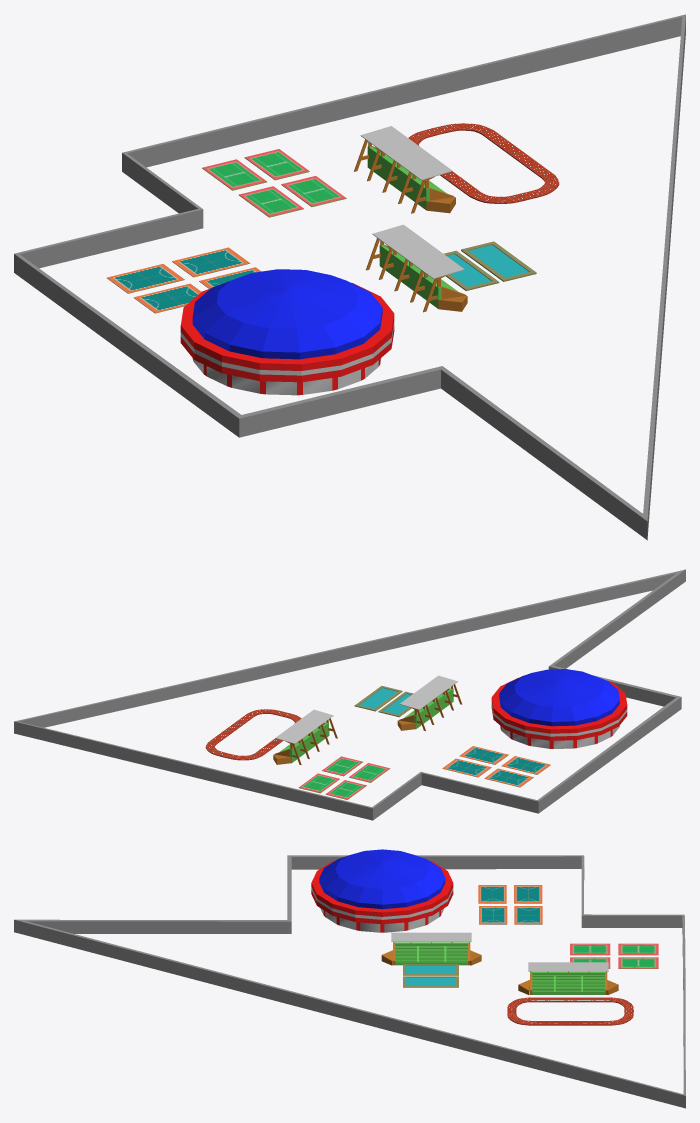
Rendered from VilaOlimpica.FBX.
The picture shows the model from 3 angles, top to bottom: view 1: azimuth 30°, elevation 25°; view 2: azimuth 150°, elevation 25°; view 3: azimuth 270°, elevation 25°; orthographic projection. The views are drawn at different scales.
Visible parts, largest first — view 1: VilaOlimpica; view 2: VilaOlimpica; view 3: VilaOlimpica.
Boxes of the visible parts, box(x1,y1,x2,y2) form: VilaOlimpica: box(14, 14, 685, 540); VilaOlimpica: box(14, 569, 685, 820); VilaOlimpica: box(14, 849, 685, 1108).
Size of the model in its own units: 836 by 70.44 by 986.
